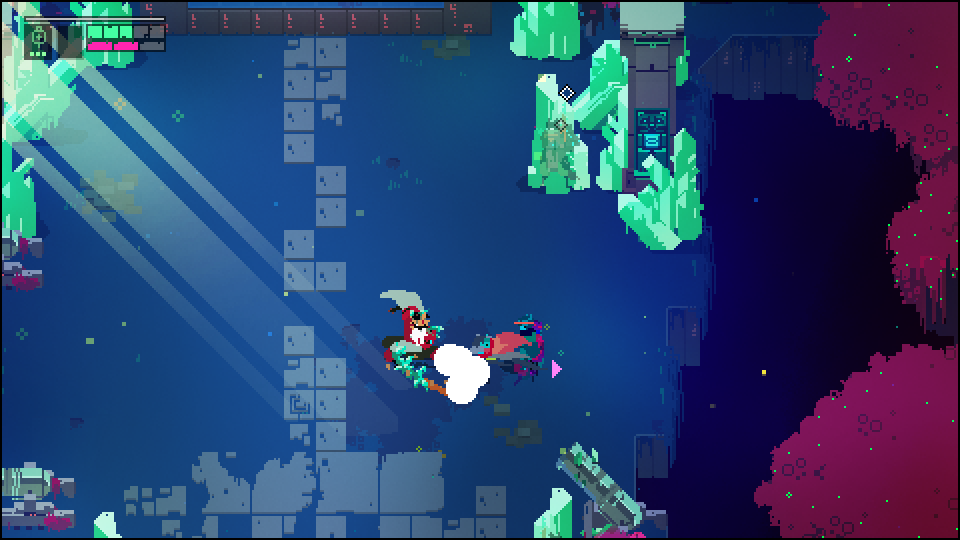hanged_man: (375, 288, 451, 391)
player: (467, 336, 532, 368)
